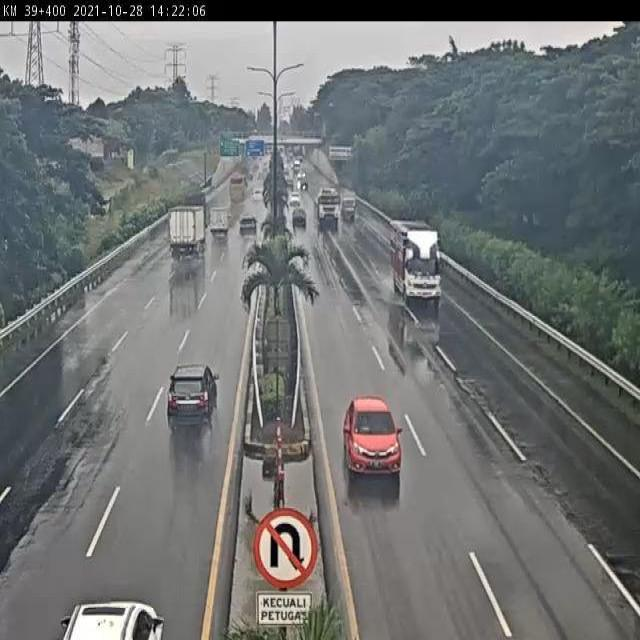car: (344, 394, 403, 478), (165, 364, 219, 428), (290, 204, 309, 229)
truck-l-: (388, 220, 442, 309), (166, 200, 208, 261)
truck-s-: (209, 207, 230, 240)
truck-xl-: (312, 187, 340, 224)
